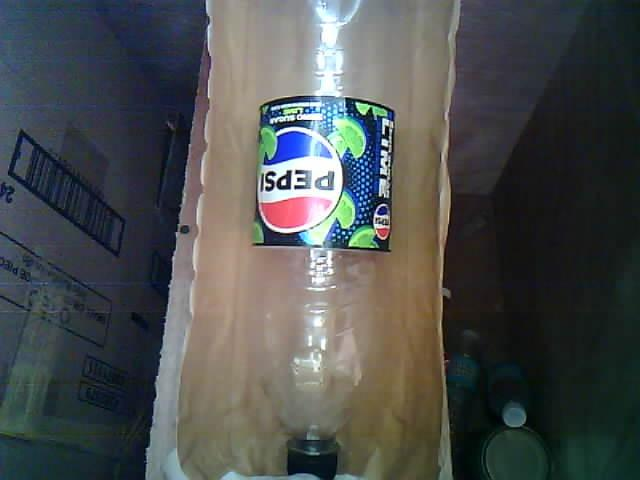large_bottle: (243, 0, 404, 480)
